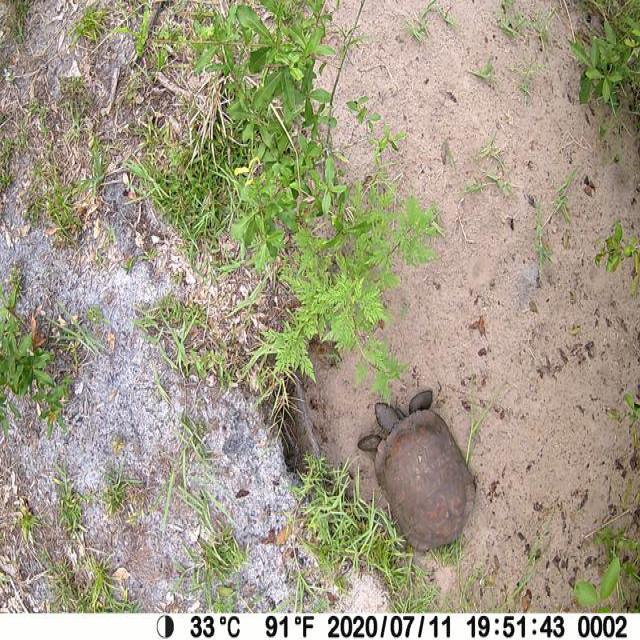tortoise: (355, 387, 476, 552)
